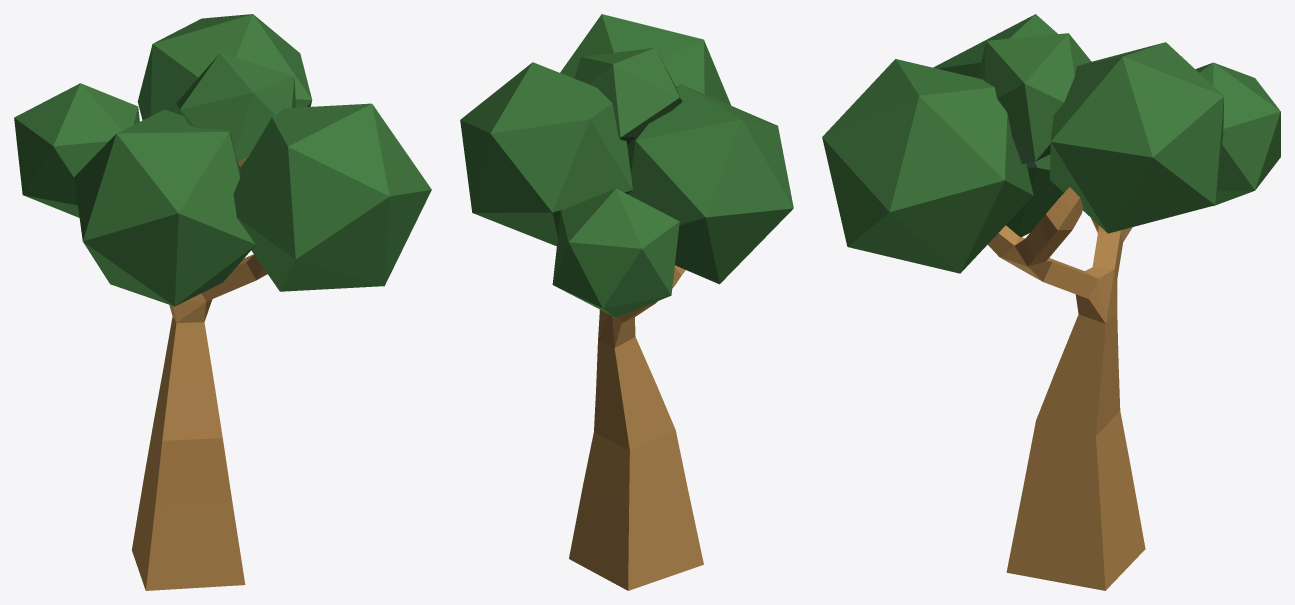
The model's file is bushTree.fbx.
3 views of the same model, side by side, from view 1: azimuth 30°, elevation 25°; view 2: azimuth 150°, elevation 25°; view 3: azimuth 270°, elevation 25° (orthographic). The views are drawn at different scales.
Visible parts, largest first — view 1: Cube; view 2: Cube; view 3: Cube.
Boxes of the visible parts, box(x1,y1,x2,y2) form: Cube: box(14, 14, 431, 590); Cube: box(460, 14, 793, 590); Cube: box(822, 14, 1280, 590).
Bounding box in the file's own units: 386 × 657 × 497.
Materials: 1 (1 with a texture image).
